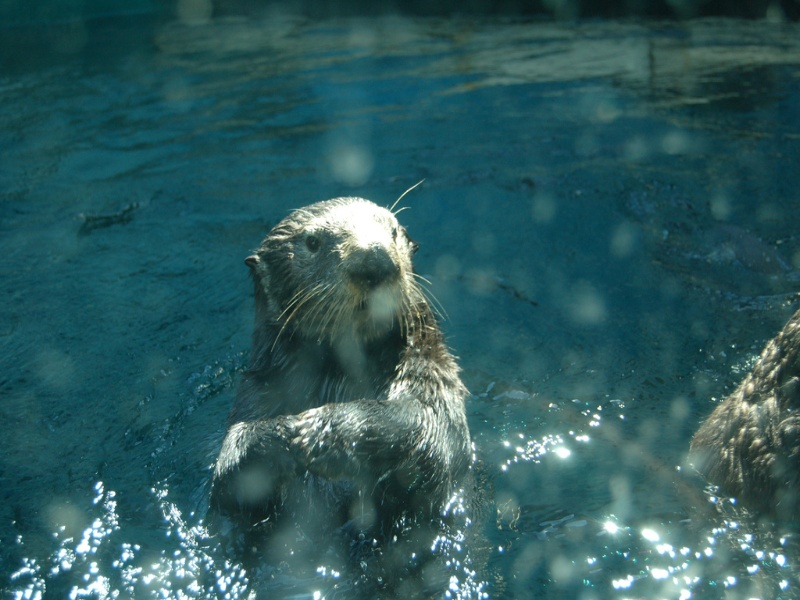minkish: (204, 181, 507, 577)
